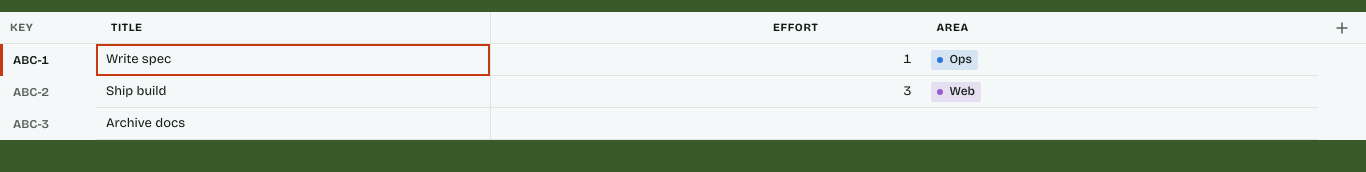
Test: TableView › jk_and_enter_work_from_anywhere
Expected: the row "ABC-1 Write spec 1 Ops" is shown, left=0, top=44, right=1365, bottom=76
Click the cell "Write spec" at (293, 60), box left=96, top=44, right=490, bottom=76
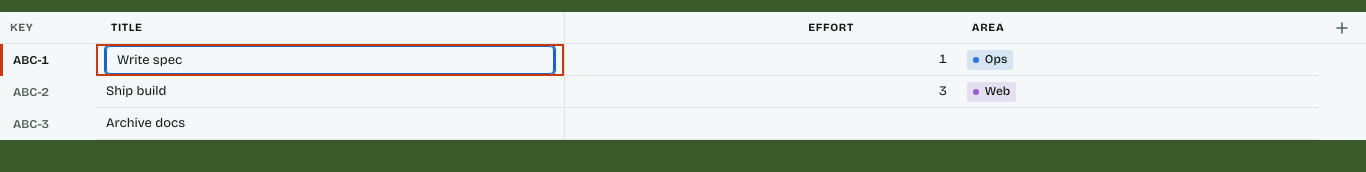
Expected: the field named "Title" is shown, left=106, top=46, right=554, bottom=74
